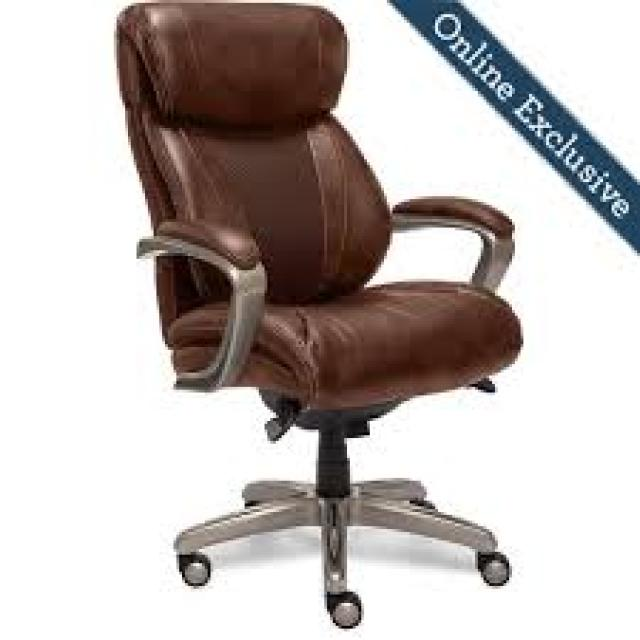chair: (58, 0, 557, 640)
